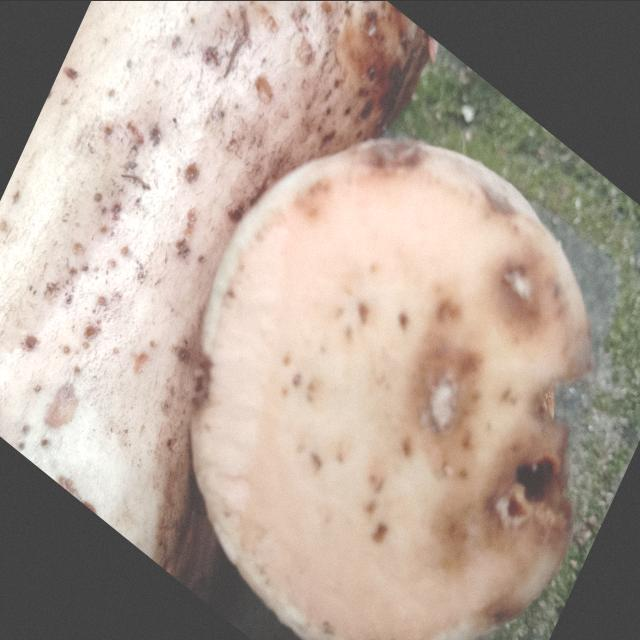Sick Sweet Potato_Tuber Rot: (191, 138, 594, 638)
